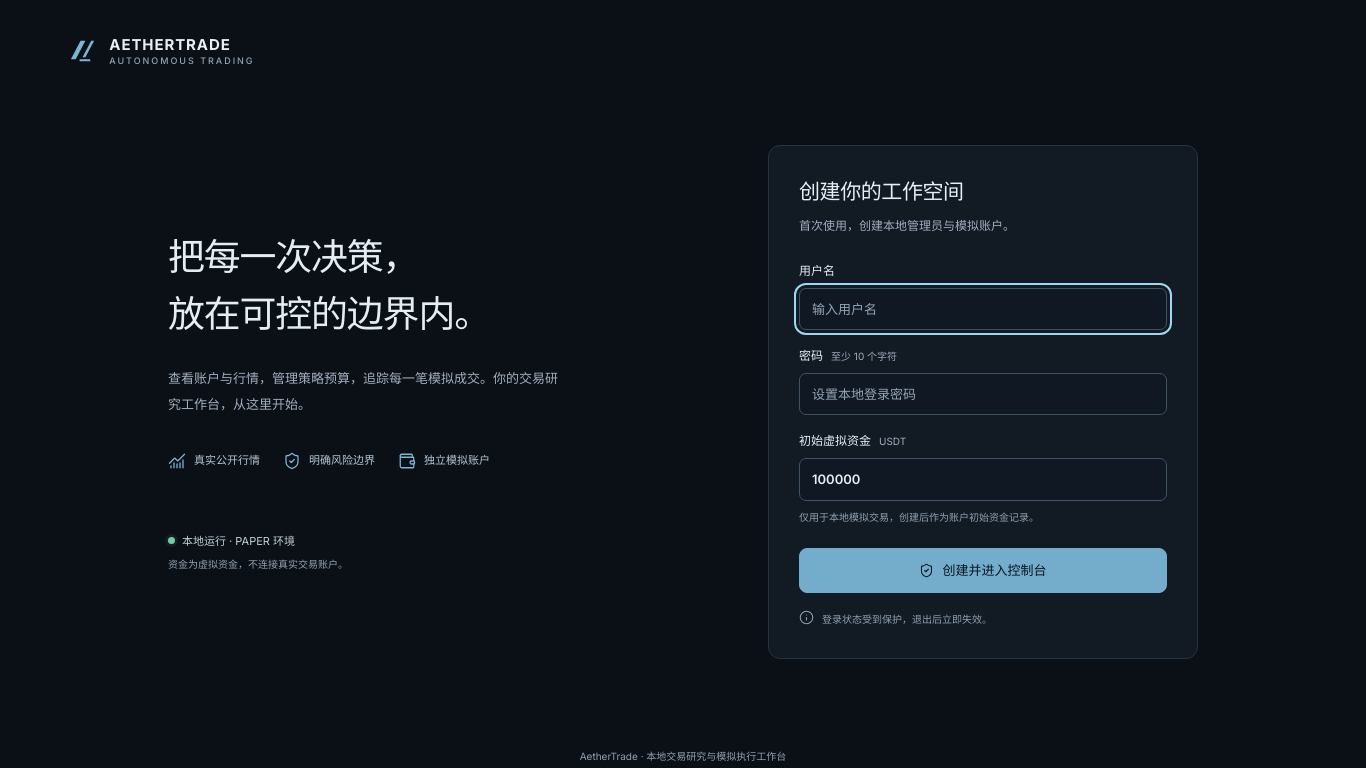
runtime session and empty states › shows first-run setup and requests no account data before authentication
The width and height of the screenshot is (1366, 768).
Expected: the heading "创建你的工作空间" is shown, [799,179,964,204]
Type "owner" into the field labelled "用户名" at (983, 309), box [799,288,1167,330]
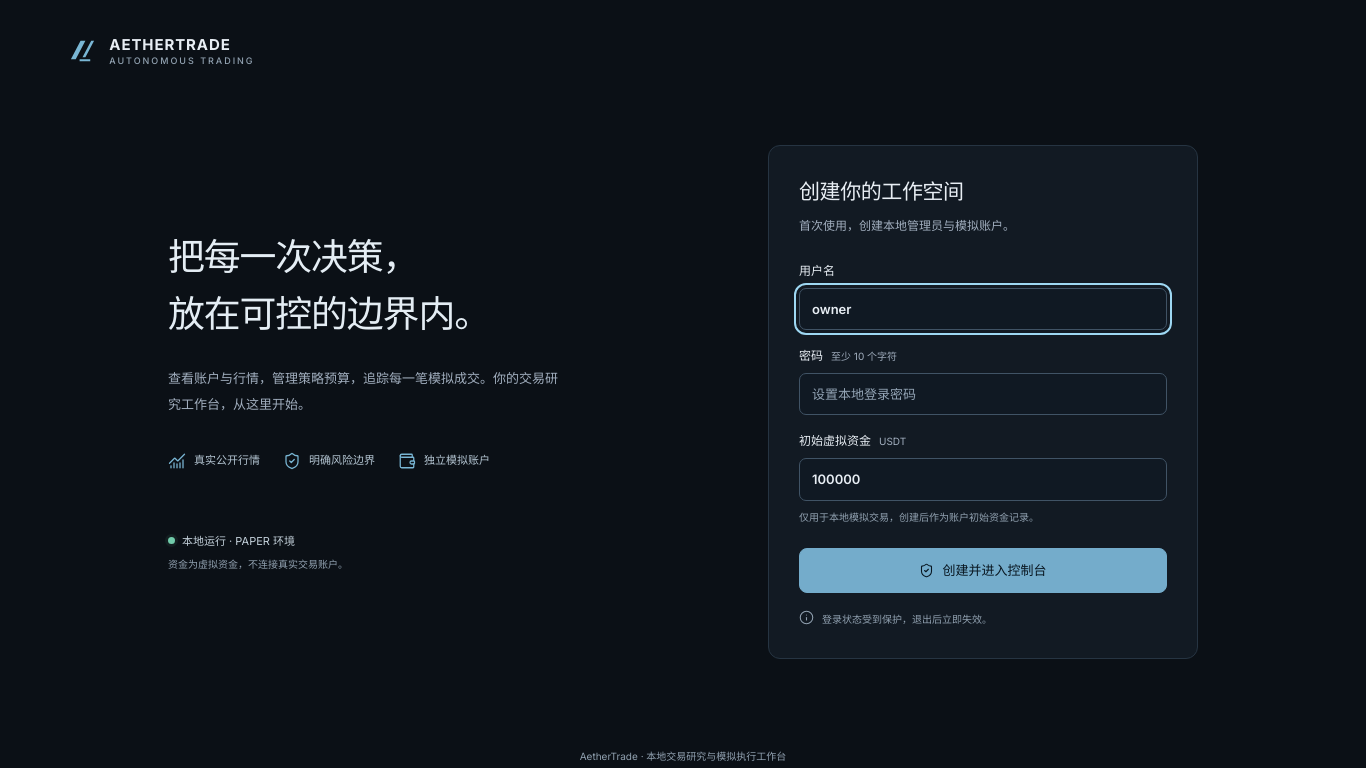
Type "correct-password" into the password field labelled "密码 至少 10 个字符" at (983, 394), box [799,373,1167,415]
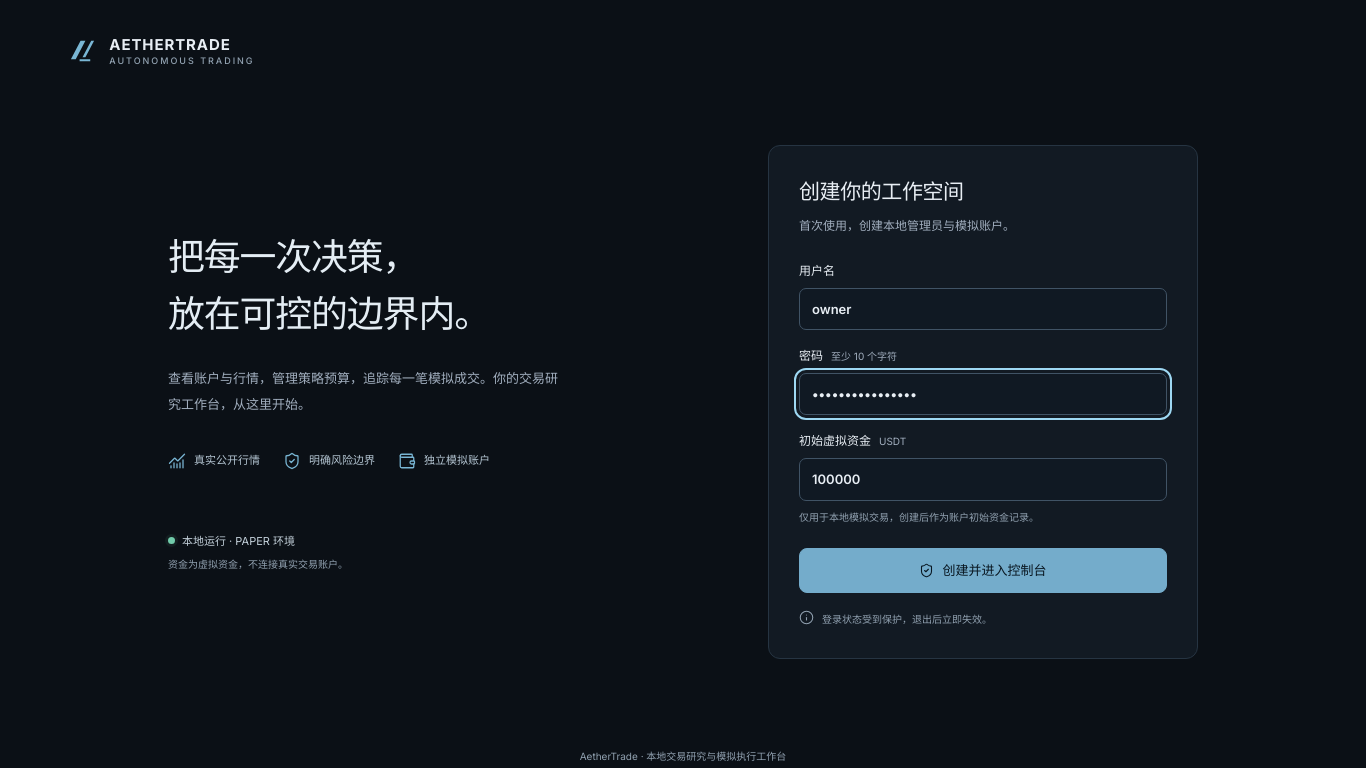
Click the button "创建并进入控制台" at (983, 570), box [799,548,1167,593]
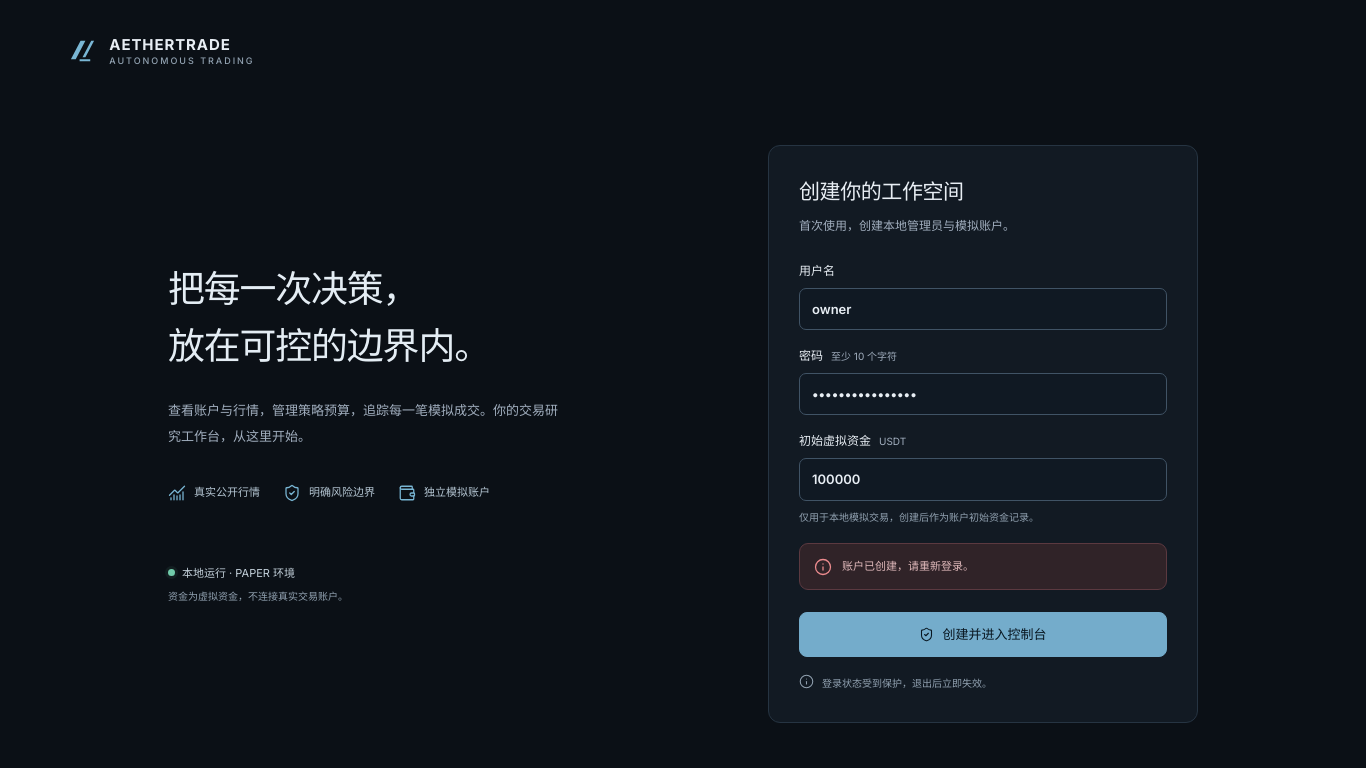
Now the message "账户已创建，请重新登录。" is shown, box [799,542,1167,590]
